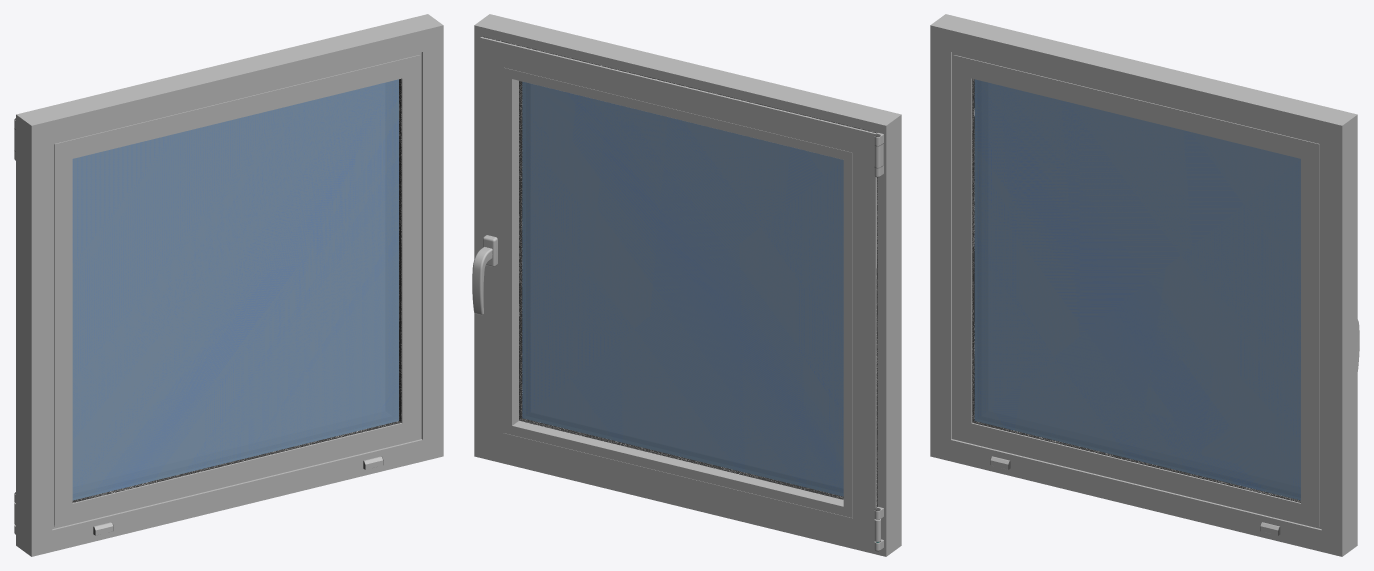
The model's file is window.dae.
The picture shows the model from 3 angles, left to right: view 1: azimuth 30°, elevation 25°; view 2: azimuth 150°, elevation 25°; view 3: azimuth 330°, elevation 25°; orthographic projection.
Parts seen in each view (by area): view 1: glass, corner_left_top_frame, corner_right_top_frame, corner_left_bottom_frame, corner_right_bottom_frame, mullion_left_frame, corner_right_bottom_sash (×2), transom_top_frame, corner_left_top_sash, corner_right_top_sash, corner_left_bottom_sash, mullion_right_frame (+5 smaller); view 2: glass, corner_right_bottom_sash (×2), corner_right_top_sash (×3), corner_left_bottom_sash (×3), corner_left_top_sash (×2), corner_left_top_frame, transom_bottom_sash (×4), mullion_right_sash (×4), mullion_left_sash (×2), transom_top_sash (×2), corner_left_bottom_frame, corner_right_top_frame (+5 smaller); view 3: glass, corner_right_top_frame, corner_right_bottom_frame, corner_left_top_frame, corner_left_bottom_frame, mullion_right_frame, corner_left_bottom_sash (×2), transom_top_frame, corner_right_top_sash, corner_left_top_sash, corner_right_bottom_sash, transom_bottom_frame (+5 smaller).
Part boxes in pixels (bbox=[...]): glass: bbox=[72, 79, 398, 500]; corner_left_top_frame: bbox=[16, 81, 168, 269]; corner_right_top_frame: bbox=[291, 14, 443, 173]; corner_left_bottom_frame: bbox=[16, 402, 168, 556]; corner_right_bottom_frame: bbox=[305, 313, 443, 489]; mullion_left_frame: bbox=[16, 258, 52, 413]; corner_right_bottom_sash (×2): bbox=[304, 317, 421, 467]; transom_top_frame: bbox=[154, 47, 306, 113]; corner_left_top_sash: bbox=[52, 114, 168, 263]; corner_right_top_sash: bbox=[305, 52, 421, 178]; corner_left_bottom_sash: bbox=[52, 403, 168, 528]; mullion_right_frame: bbox=[421, 169, 443, 317]; glass: bbox=[522, 81, 843, 496]; corner_right_bottom_sash (×2): bbox=[480, 316, 617, 482]; corner_right_top_sash (×3): bbox=[480, 37, 609, 180]; corner_left_bottom_sash (×3): bbox=[746, 405, 876, 547]; corner_left_top_sash (×2): bbox=[746, 102, 883, 269]; corner_left_top_frame: bbox=[749, 81, 901, 269]; transom_bottom_sash (×4): bbox=[609, 442, 755, 516]; mullion_right_sash (×4): bbox=[480, 173, 522, 323]; mullion_left_sash (×2): bbox=[843, 261, 876, 412]; transom_top_sash (×2): bbox=[609, 68, 747, 135]; corner_left_bottom_frame: bbox=[749, 402, 901, 556]; corner_right_top_frame: bbox=[474, 14, 626, 170]; glass: bbox=[974, 79, 1300, 500]; corner_right_top_frame: bbox=[1205, 81, 1357, 269]; corner_right_bottom_frame: bbox=[1205, 402, 1357, 556]; corner_left_top_frame: bbox=[930, 14, 1082, 173]; corner_left_bottom_frame: bbox=[930, 313, 1068, 489]; mullion_right_frame: bbox=[1321, 258, 1357, 412]; corner_left_bottom_sash (×2): bbox=[952, 317, 1069, 467]; transom_top_frame: bbox=[1067, 47, 1219, 113]; corner_right_top_sash: bbox=[1205, 114, 1321, 263]; corner_left_top_sash: bbox=[952, 52, 1068, 178]; corner_right_bottom_sash: bbox=[1205, 403, 1321, 528]; transom_bottom_frame: bbox=[1067, 467, 1205, 523].
Size of the model in its own units: 39.37 by 5.81 by 39.37.
